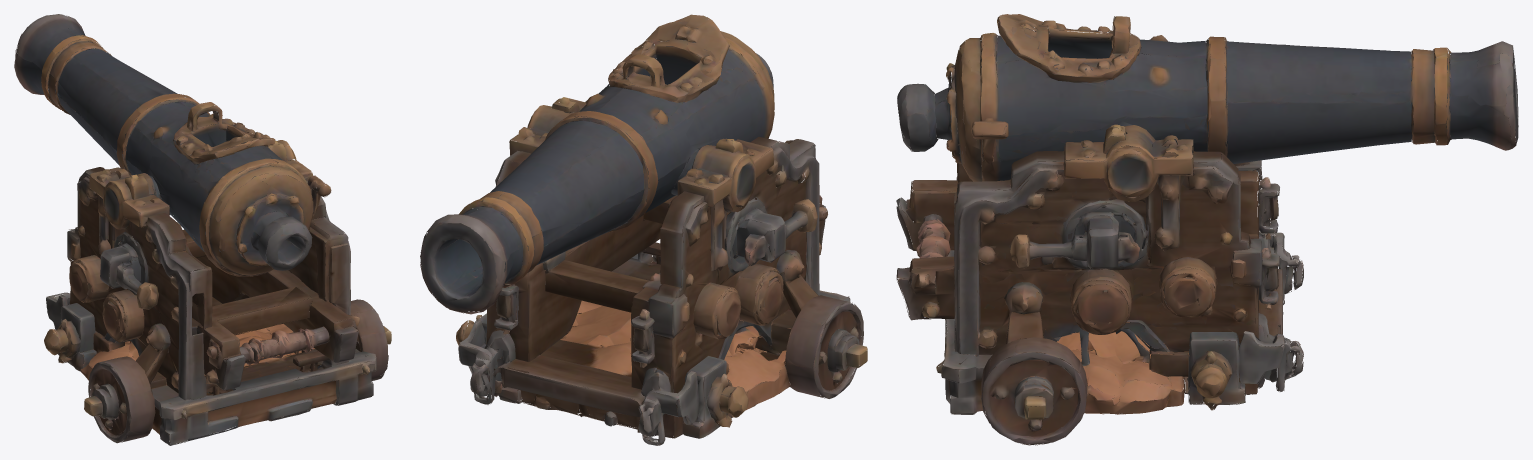
Rendered from cf_crop_cannon.glb.
The picture shows the model from 3 angles, left to right: view 1: azimuth 30°, elevation 25°; view 2: azimuth 150°, elevation 25°; view 3: azimuth 270°, elevation 25°; orthographic projection. The views are drawn at different scales.
Visible parts, largest first — view 1: head, gun; view 2: head, gun; view 3: head, gun.
Boxes of the visible parts, x1,y1,x2,y2 form: head: (44, 102, 391, 445); gun: (14, 14, 236, 214); head: (456, 14, 867, 445); gun: (420, 61, 722, 314); head: (896, 14, 1303, 442); gun: (1097, 27, 1518, 163).
Size of the model in its own units: 2.04 by 1.8 by 2.91.
1 material, 1 textured.
